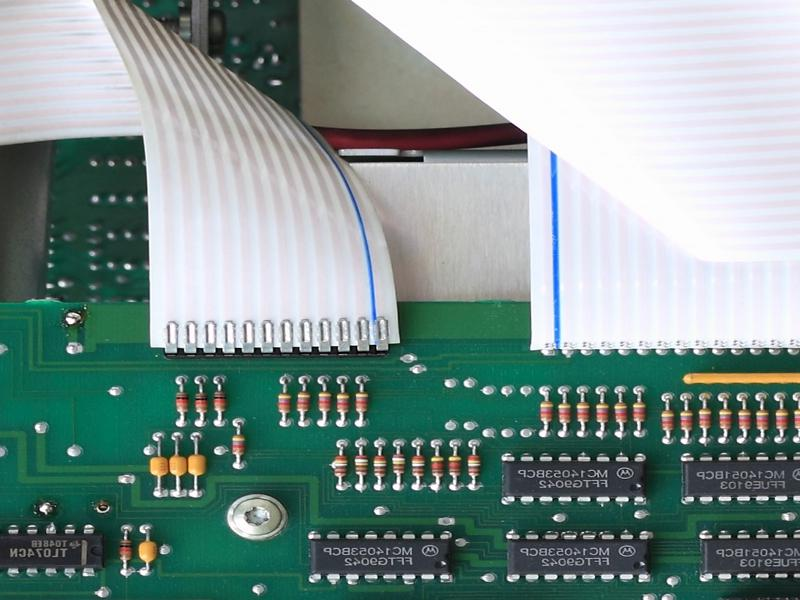Resistor: (331, 452, 350, 481), (409, 452, 427, 482), (465, 451, 483, 480), (773, 405, 791, 434), (371, 453, 389, 481), (389, 452, 408, 478), (679, 405, 696, 434), (736, 405, 753, 434), (117, 536, 135, 563), (446, 453, 464, 480), (316, 387, 333, 415), (353, 389, 371, 415), (594, 399, 612, 425), (538, 398, 555, 425), (556, 399, 573, 426), (697, 406, 714, 433), (612, 400, 630, 425), (295, 389, 312, 415), (335, 389, 352, 415), (353, 452, 370, 478), (429, 454, 446, 480), (755, 408, 771, 435), (575, 400, 592, 425), (659, 409, 676, 434), (632, 399, 648, 425), (276, 391, 293, 415), (174, 390, 190, 415), (719, 405, 733, 433), (194, 390, 209, 415), (213, 390, 228, 414), (231, 433, 246, 457), (792, 406, 800, 432)
